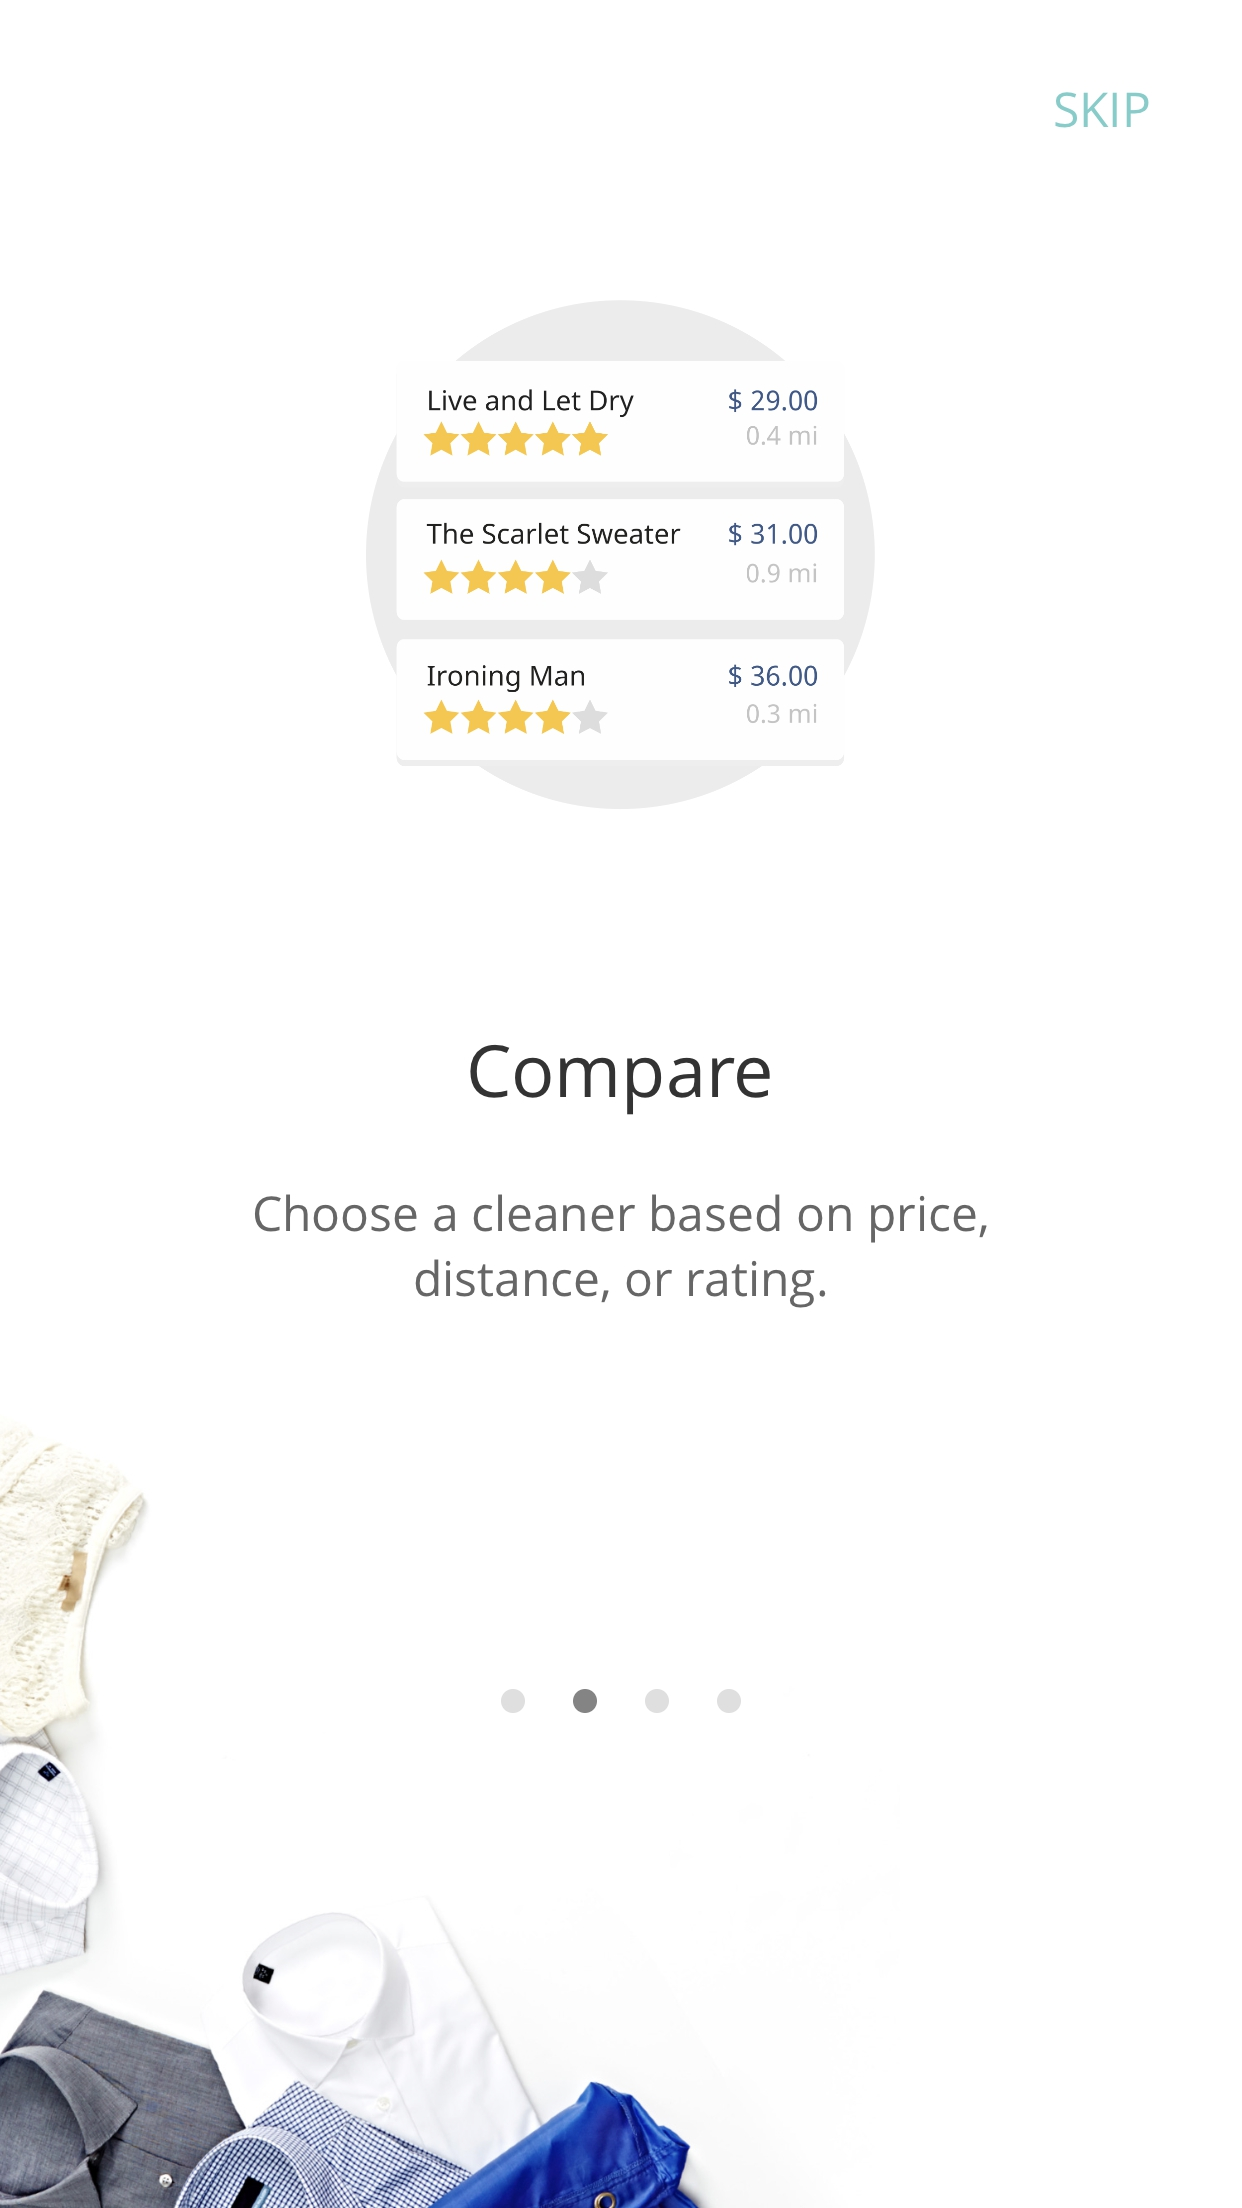Image: (2, 1424, 699, 2208), (365, 300, 877, 811)
PageIndicator: (500, 1688, 742, 1715)
Text: (255, 1193, 989, 1309), (470, 1045, 770, 1116), (1054, 93, 1149, 129)
